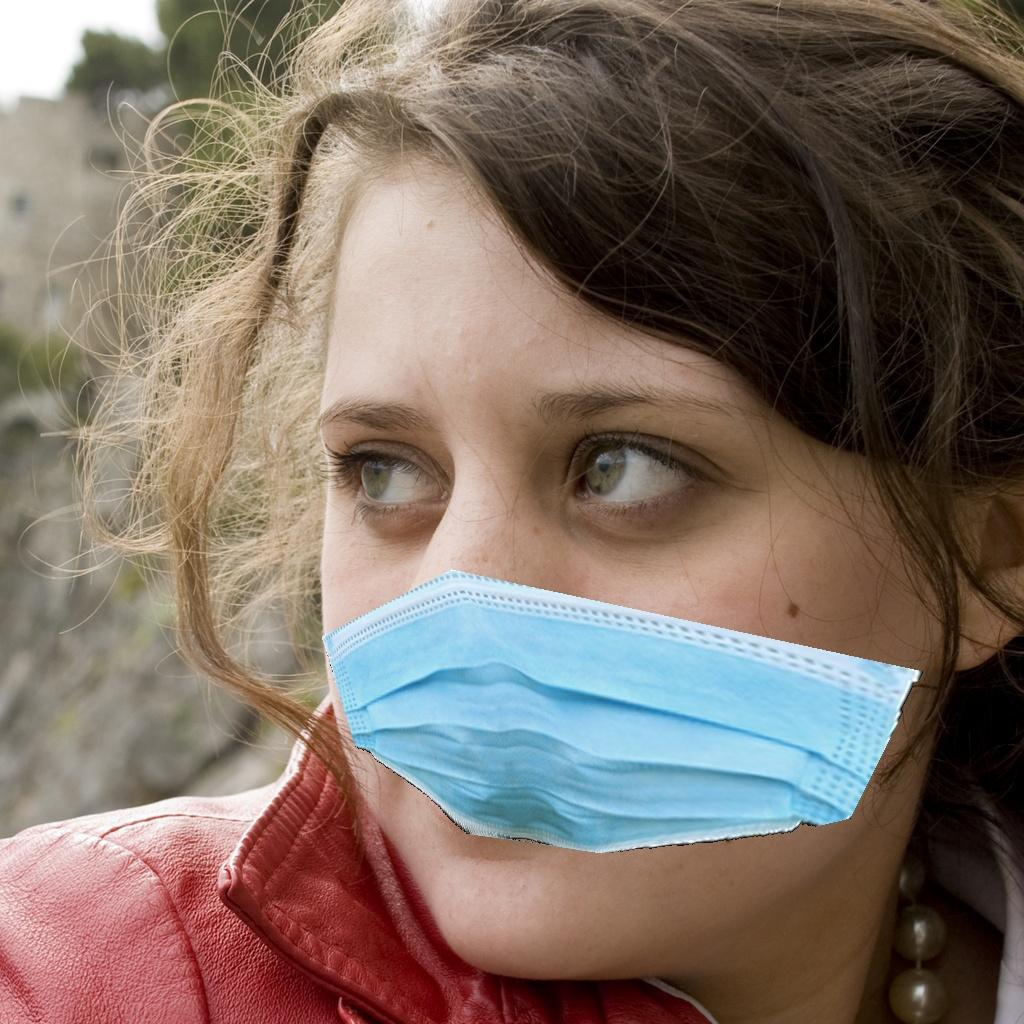Máscara Incorreta: (283, 338, 940, 982)
